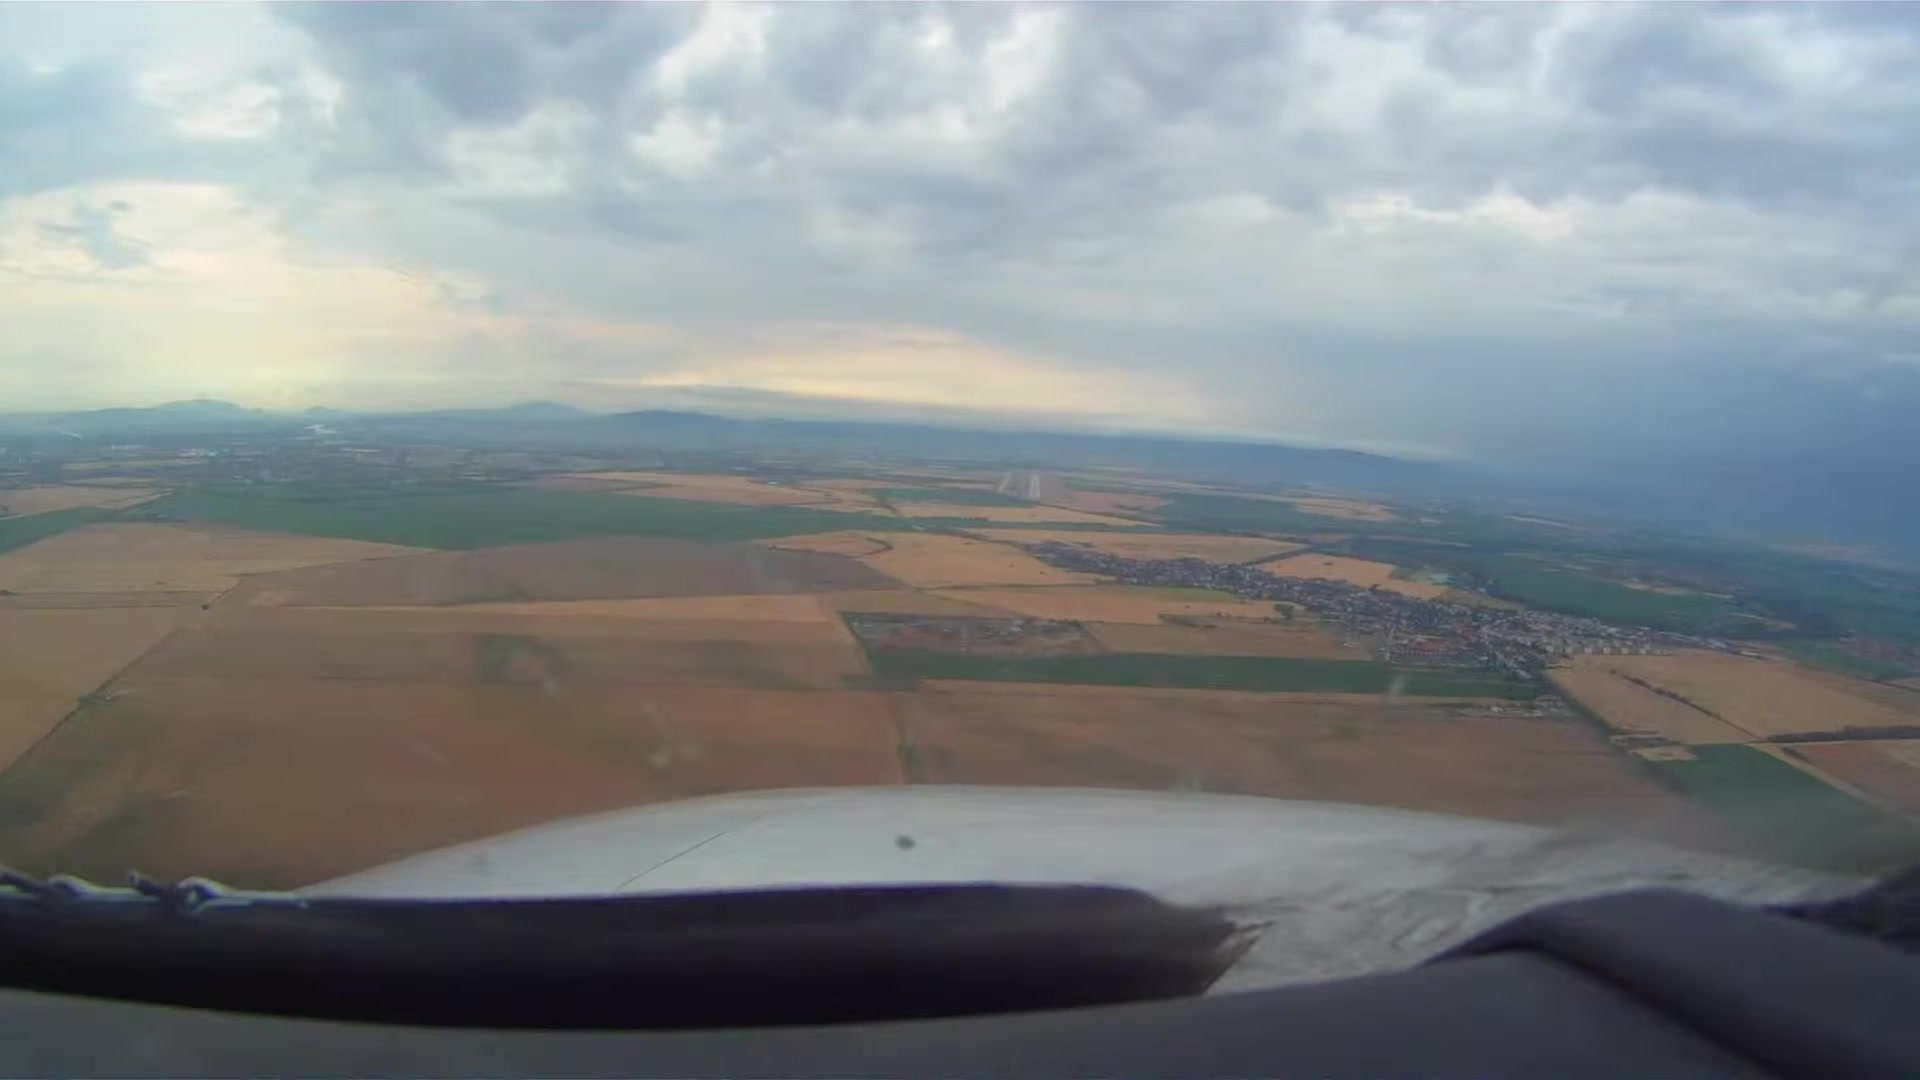runway: (1025, 469, 1043, 501)
